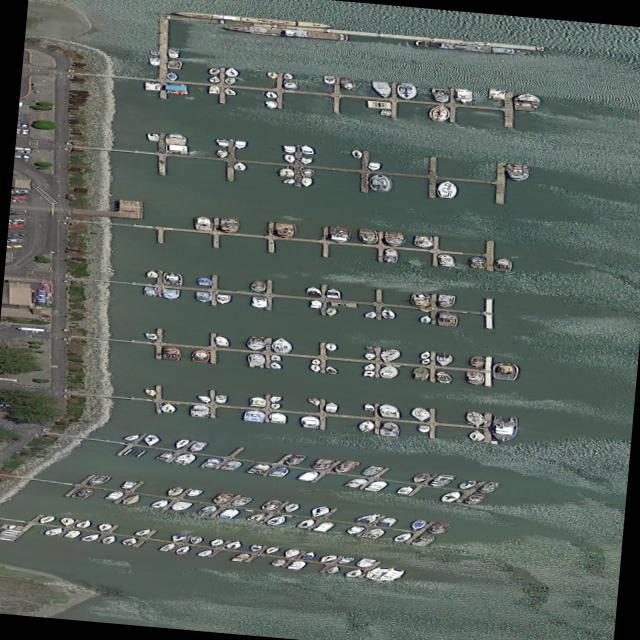ship: (172, 10, 331, 29), (220, 23, 347, 41), (413, 39, 532, 56), (361, 565, 409, 582), (491, 416, 516, 443), (491, 361, 520, 381), (513, 92, 541, 111), (505, 163, 531, 181), (434, 179, 457, 199), (425, 473, 457, 487), (329, 460, 362, 473), (423, 522, 454, 535), (370, 173, 390, 193), (427, 104, 449, 122), (368, 81, 391, 98), (376, 348, 402, 363), (407, 534, 437, 547), (328, 225, 349, 243), (168, 453, 199, 465), (408, 292, 431, 308), (461, 492, 489, 505), (395, 82, 415, 100), (274, 222, 296, 238), (244, 335, 266, 351), (377, 421, 399, 437), (376, 403, 399, 418), (306, 505, 332, 518), (383, 231, 404, 247), (270, 337, 291, 353), (67, 487, 95, 499), (474, 481, 502, 493), (436, 490, 464, 502), (307, 458, 335, 470), (408, 407, 430, 422), (164, 82, 189, 95), (84, 474, 111, 486), (362, 480, 389, 492), (356, 228, 376, 244), (213, 508, 242, 519), (436, 311, 457, 326), (163, 132, 187, 145), (193, 504, 219, 516), (241, 409, 265, 422), (356, 465, 384, 476), (341, 477, 369, 488), (193, 215, 212, 231), (219, 217, 238, 233), (453, 87, 472, 103), (464, 411, 483, 427), (258, 499, 283, 511), (161, 272, 182, 286), (208, 493, 234, 504), (245, 463, 271, 474), (353, 513, 379, 524), (295, 470, 321, 481), (281, 454, 307, 465), (246, 353, 265, 368), (429, 88, 448, 103), (160, 346, 179, 361), (412, 234, 432, 248), (377, 365, 397, 379), (166, 501, 194, 511), (359, 528, 387, 538), (163, 143, 188, 154), (118, 494, 143, 505), (184, 441, 209, 452), (311, 521, 336, 532), (390, 531, 415, 542), (407, 472, 432, 483), (266, 466, 291, 477), (189, 404, 210, 417), (40, 526, 67, 536), (493, 257, 512, 271), (190, 348, 209, 362), (198, 457, 222, 468), (263, 515, 289, 525), (218, 460, 244, 470), (433, 371, 454, 383), (465, 371, 483, 385), (300, 415, 318, 429), (435, 294, 454, 307), (228, 496, 252, 506), (284, 560, 308, 570), (434, 353, 452, 366), (120, 448, 146, 457), (313, 554, 339, 563), (34, 515, 57, 525), (353, 558, 376, 568), (454, 479, 477, 489), (267, 412, 286, 424), (411, 366, 427, 380), (280, 503, 302, 513), (163, 486, 185, 496), (294, 518, 316, 528), (407, 519, 427, 530), (487, 88, 505, 100), (374, 517, 398, 526), (383, 248, 397, 263), (435, 254, 454, 265), (469, 256, 485, 269), (166, 533, 189, 542), (342, 568, 365, 577), (77, 533, 102, 541), (161, 288, 179, 299), (212, 335, 230, 346), (73, 519, 95, 528), (222, 540, 244, 549), (148, 499, 170, 508), (103, 491, 125, 500), (229, 553, 251, 562), (245, 512, 267, 521), (169, 439, 191, 448), (356, 420, 374, 431), (469, 355, 484, 368), (250, 296, 266, 308), (142, 434, 158, 446), (172, 545, 193, 554), (156, 542, 177, 551), (393, 485, 414, 494), (467, 430, 484, 441), (249, 396, 266, 407), (130, 528, 153, 536), (379, 309, 397, 319), (250, 280, 265, 292), (164, 59, 182, 69), (339, 77, 354, 89), (205, 538, 225, 547), (154, 451, 174, 460), (304, 286, 320, 297), (194, 291, 210, 302), (281, 79, 297, 90), (343, 526, 365, 534), (98, 535, 117, 544), (62, 529, 81, 538), (142, 82, 161, 91), (277, 167, 294, 177), (118, 537, 139, 545), (280, 549, 301, 557), (324, 401, 338, 413), (297, 168, 315, 177), (269, 558, 287, 567), (333, 557, 356, 564), (325, 288, 341, 298), (215, 294, 231, 304), (183, 489, 203, 497), (160, 403, 176, 413), (95, 523, 112, 532), (118, 481, 137, 489), (195, 277, 211, 286), (299, 145, 315, 154), (324, 566, 342, 574), (262, 546, 280, 554), (223, 67, 237, 77), (194, 549, 214, 556), (195, 395, 212, 403), (58, 517, 73, 526), (304, 398, 323, 405), (143, 286, 156, 296), (232, 161, 245, 171), (300, 177, 313, 187), (298, 552, 316, 559), (265, 396, 283, 403), (166, 48, 178, 58), (121, 434, 141, 440), (142, 333, 159, 340), (220, 88, 237, 95), (214, 149, 227, 158), (232, 140, 245, 149), (349, 149, 362, 158), (367, 162, 380, 171), (361, 311, 377, 318), (323, 343, 337, 351), (417, 351, 431, 359), (188, 536, 202, 544), (324, 307, 336, 316), (283, 154, 295, 163), (207, 85, 219, 94), (417, 424, 429, 433), (247, 544, 262, 551), (308, 300, 321, 308), (223, 77, 236, 85), (215, 139, 228, 147), (282, 145, 295, 153), (263, 100, 276, 108), (362, 403, 375, 411), (214, 395, 227, 403), (166, 72, 177, 81), (148, 57, 159, 66), (362, 362, 374, 370), (146, 133, 158, 141), (322, 76, 334, 84), (280, 178, 296, 184), (324, 366, 337, 373), (418, 357, 431, 364), (206, 68, 219, 75), (299, 157, 312, 164), (143, 389, 156, 396), (309, 364, 320, 372), (363, 352, 374, 360), (208, 75, 219, 83), (145, 270, 157, 277), (267, 362, 281, 368), (362, 370, 374, 377), (265, 72, 277, 79), (264, 91, 276, 98), (379, 109, 391, 116), (268, 403, 280, 410), (419, 315, 430, 322), (281, 72, 292, 79), (382, 363, 401, 367), (0, 530, 19, 534), (415, 308, 432, 312), (269, 354, 280, 360), (309, 358, 320, 364), (364, 346, 375, 352), (2, 529, 22, 532), (6, 524, 17, 529), (149, 50, 159, 55), (0, 533, 16, 536), (0, 537, 12, 540)
